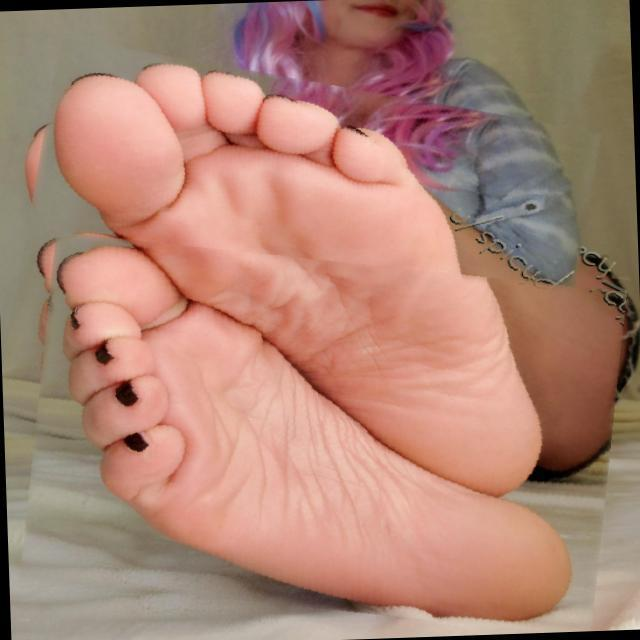Barefoots: (60, 62, 554, 493), (59, 229, 591, 621)
